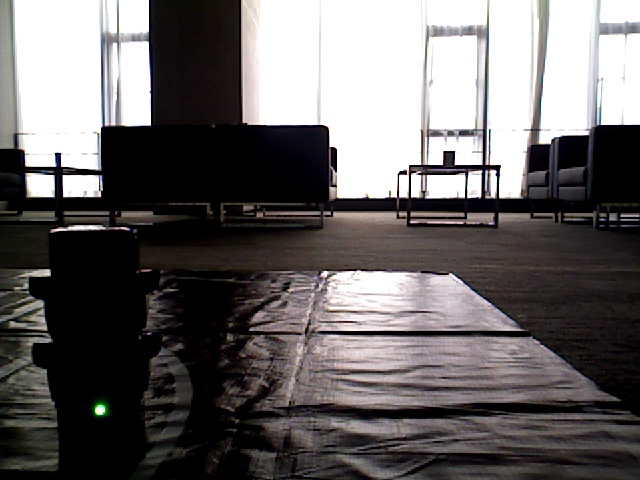green: (66, 233, 129, 423)
